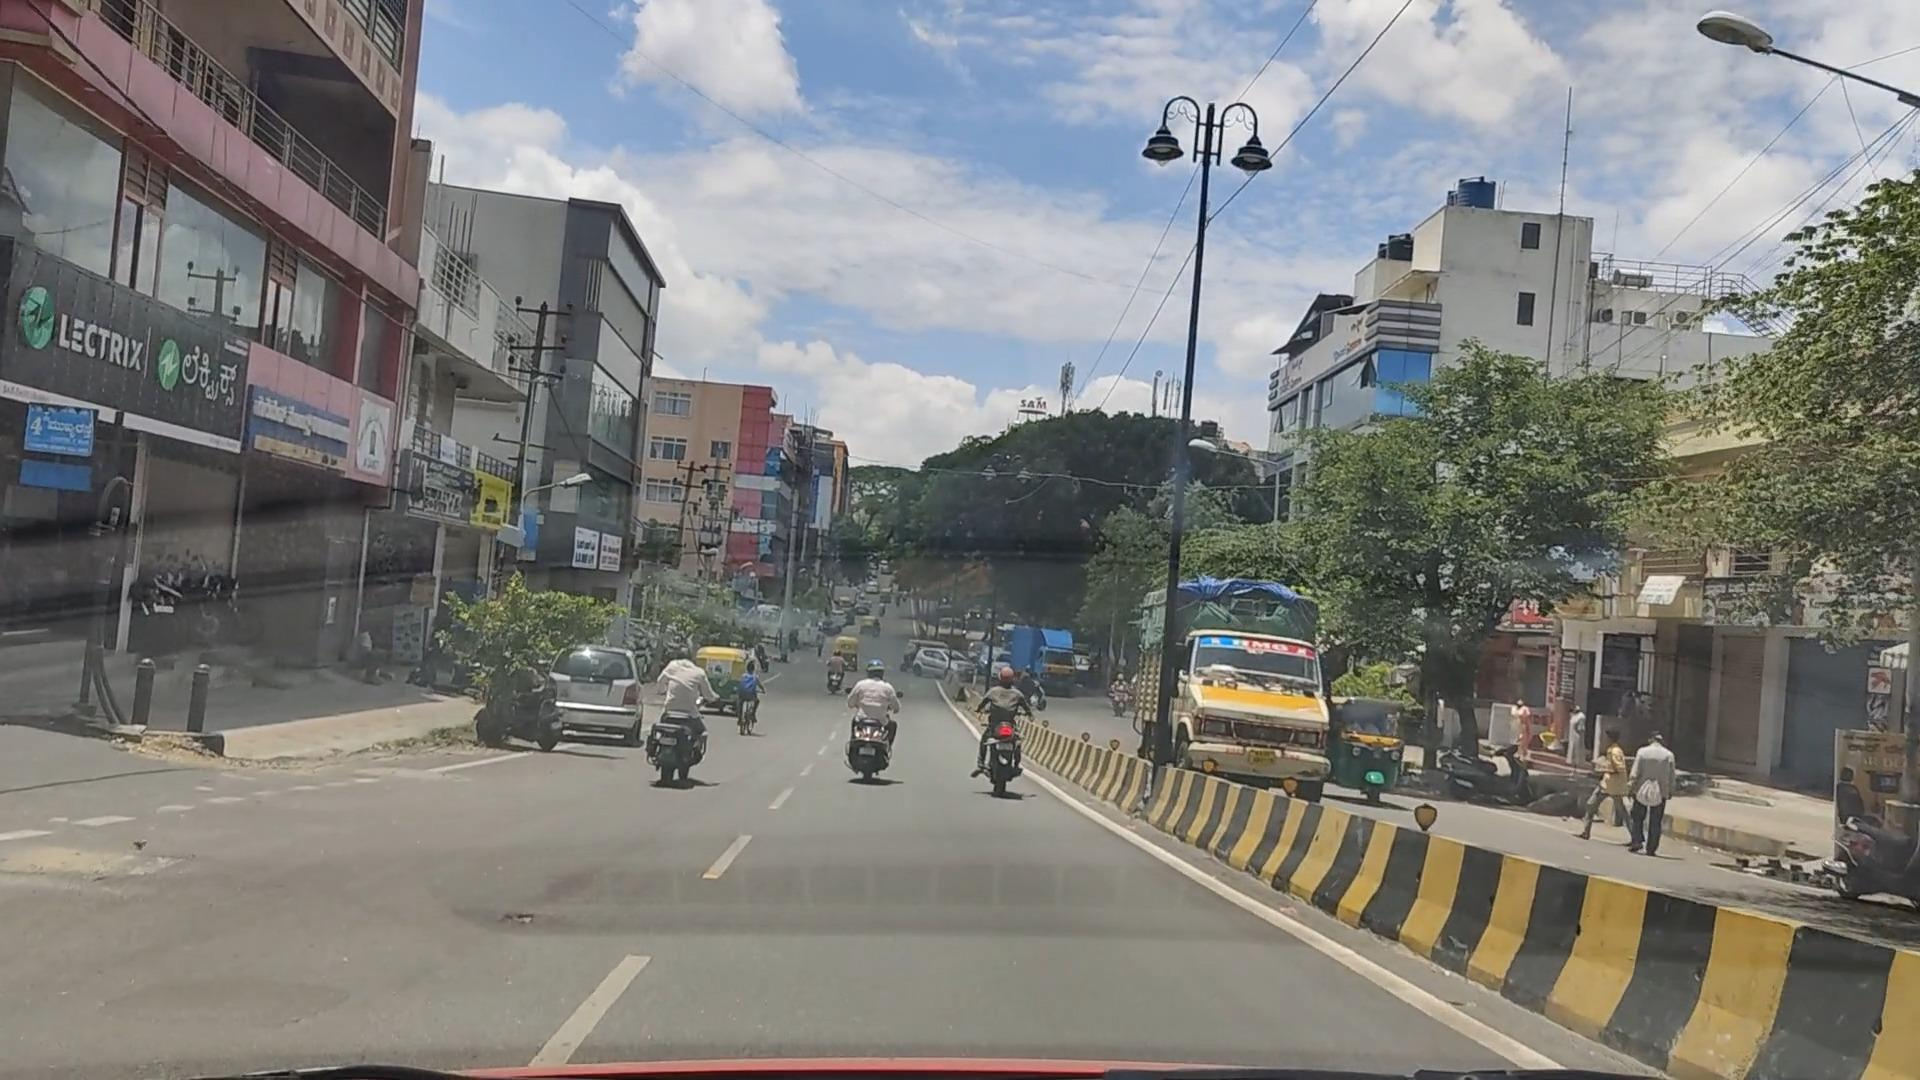LMV: (646, 658, 723, 823)
RoadDamages: (73, 770, 195, 926)
